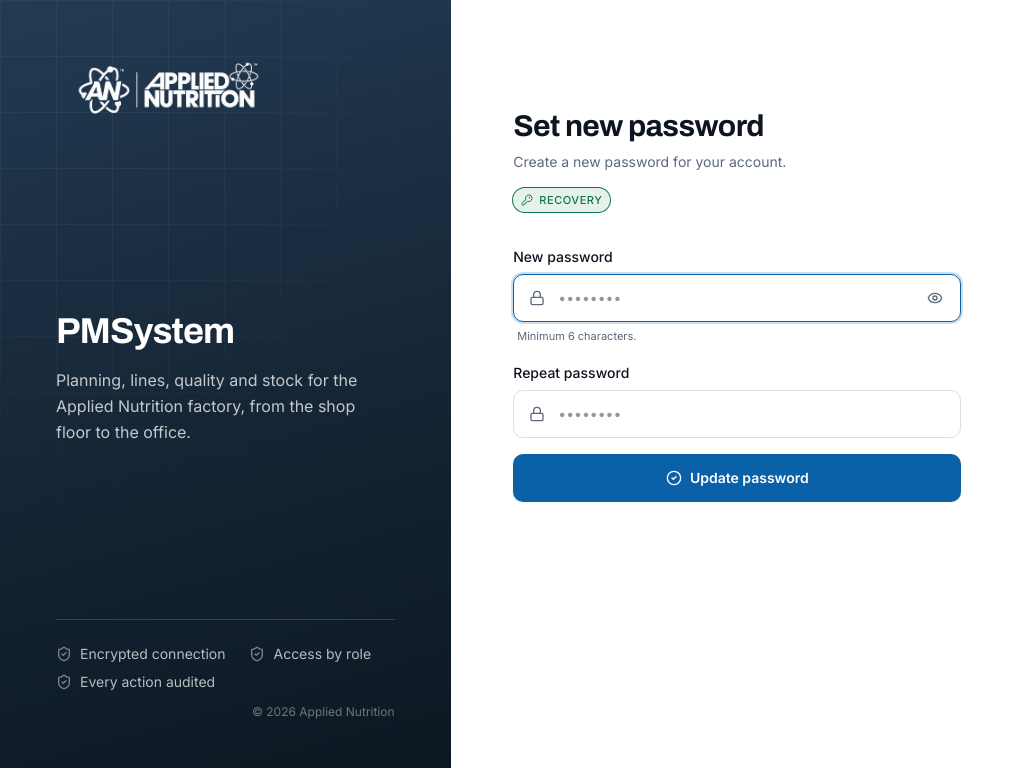
it: ResetPassword › moves to the dead-link screen if the recovery session is gone on submit
The width and height of the screenshot is (1024, 768).
Step 1. Type "secret123" into the password field labelled "New password" → (737,298), box [513,274,961,322]
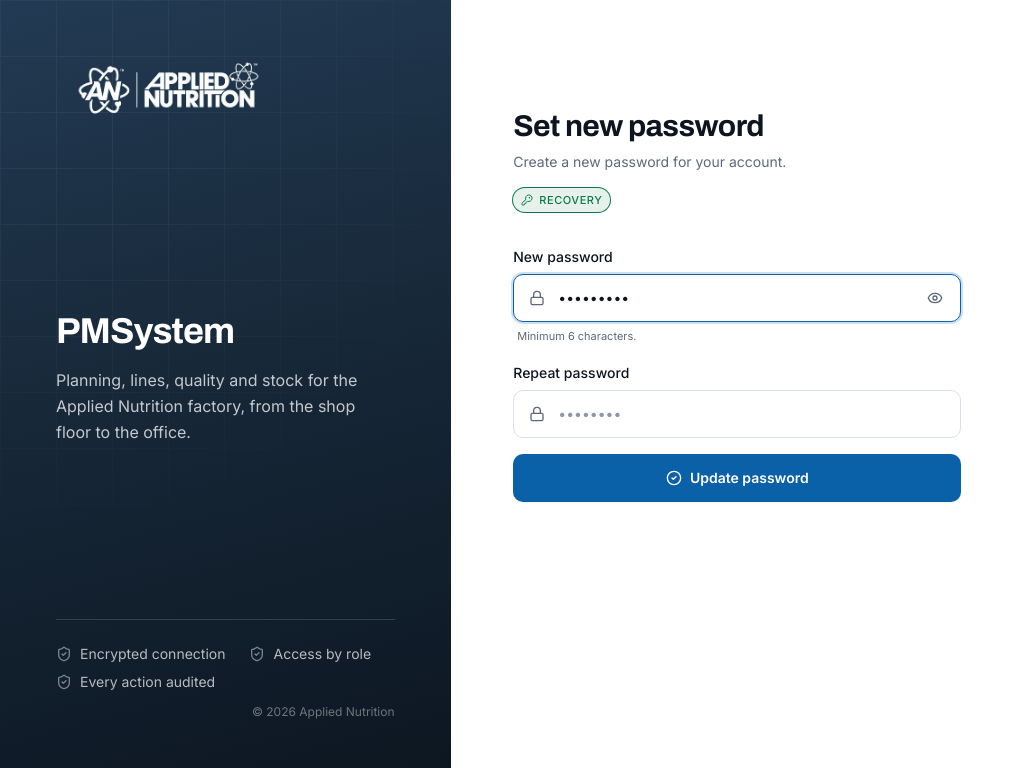
Step 2. Type "secret123" into the password field labelled "Repeat password" → (737,414), box [513,390,961,438]
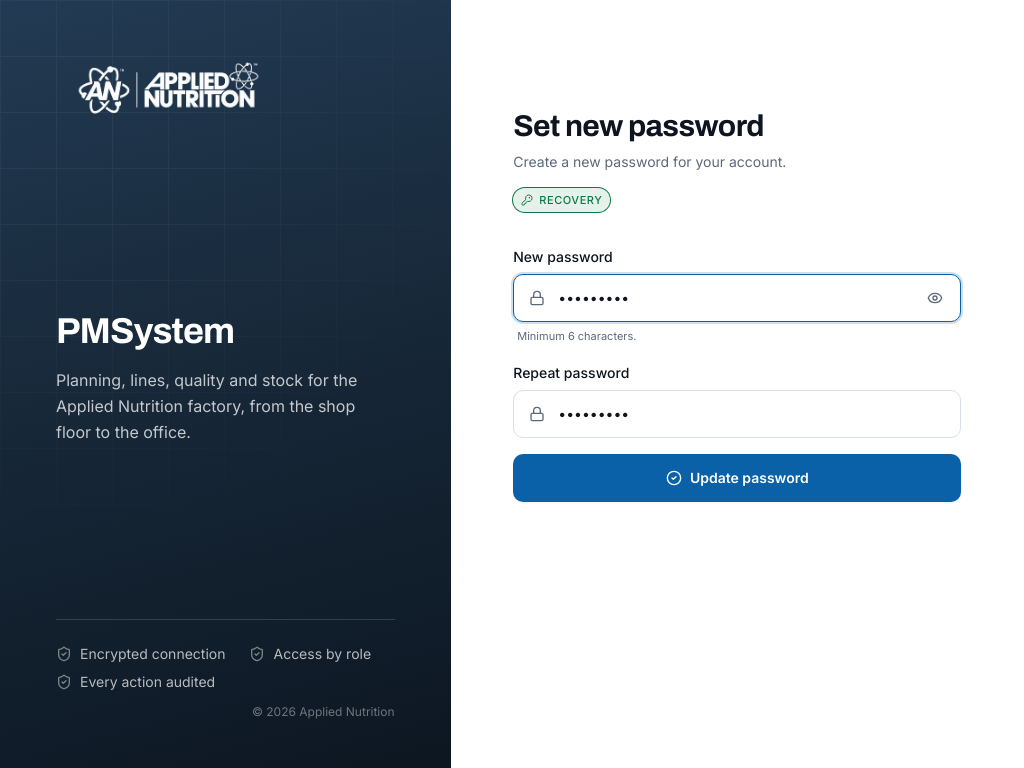
Step 3. Click the button "Update password" → (737,478), box [513,454,961,502]
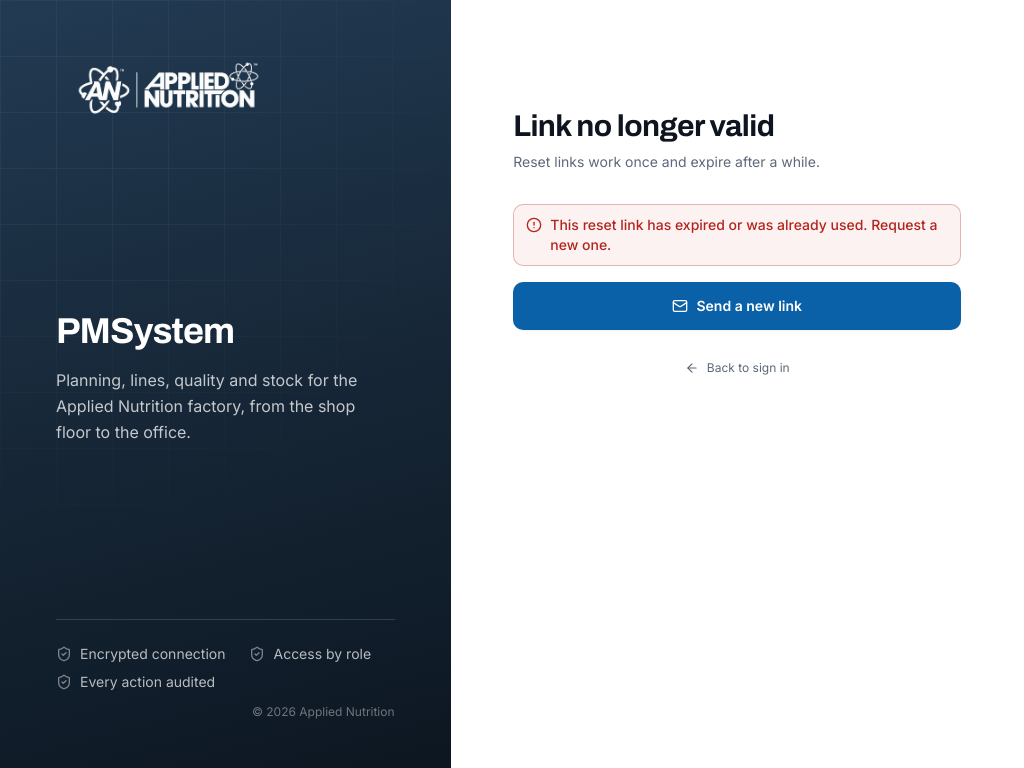
Check: the text "expired or was already used" is shown, box [550,216,938,252]
